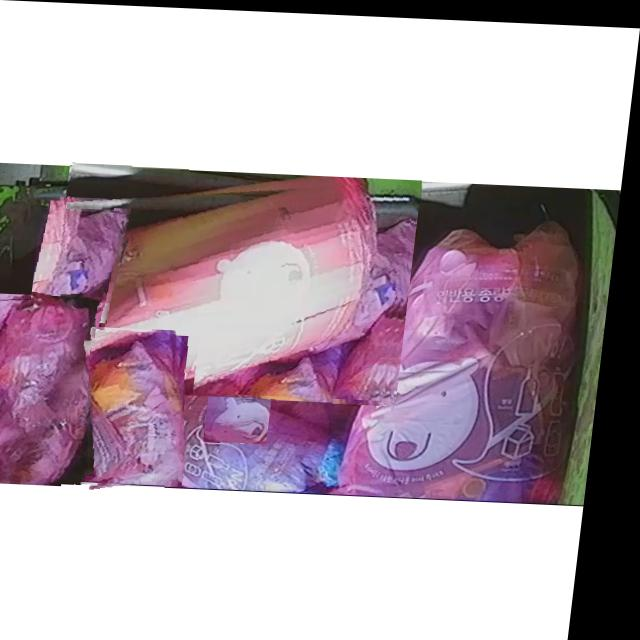other_trashbag: (65, 182, 409, 389), (0, 297, 104, 483), (96, 329, 195, 486), (36, 208, 134, 320), (216, 399, 279, 441)
